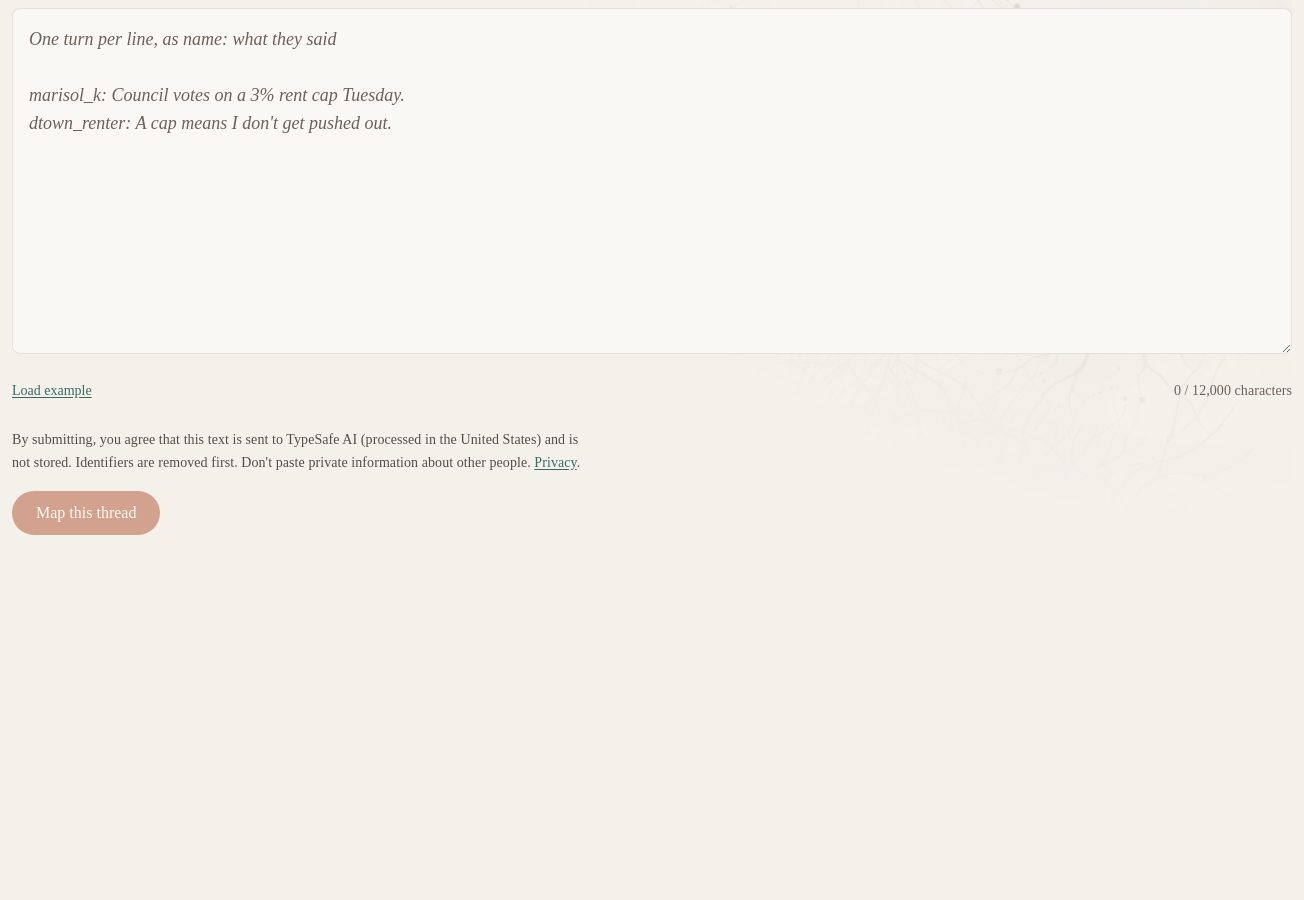
Test case: MapReplyClient › explains a SPEND_LIMIT_REACHED response in plain words
Click the button "Load example": (52, 391) [12,369,92,413]
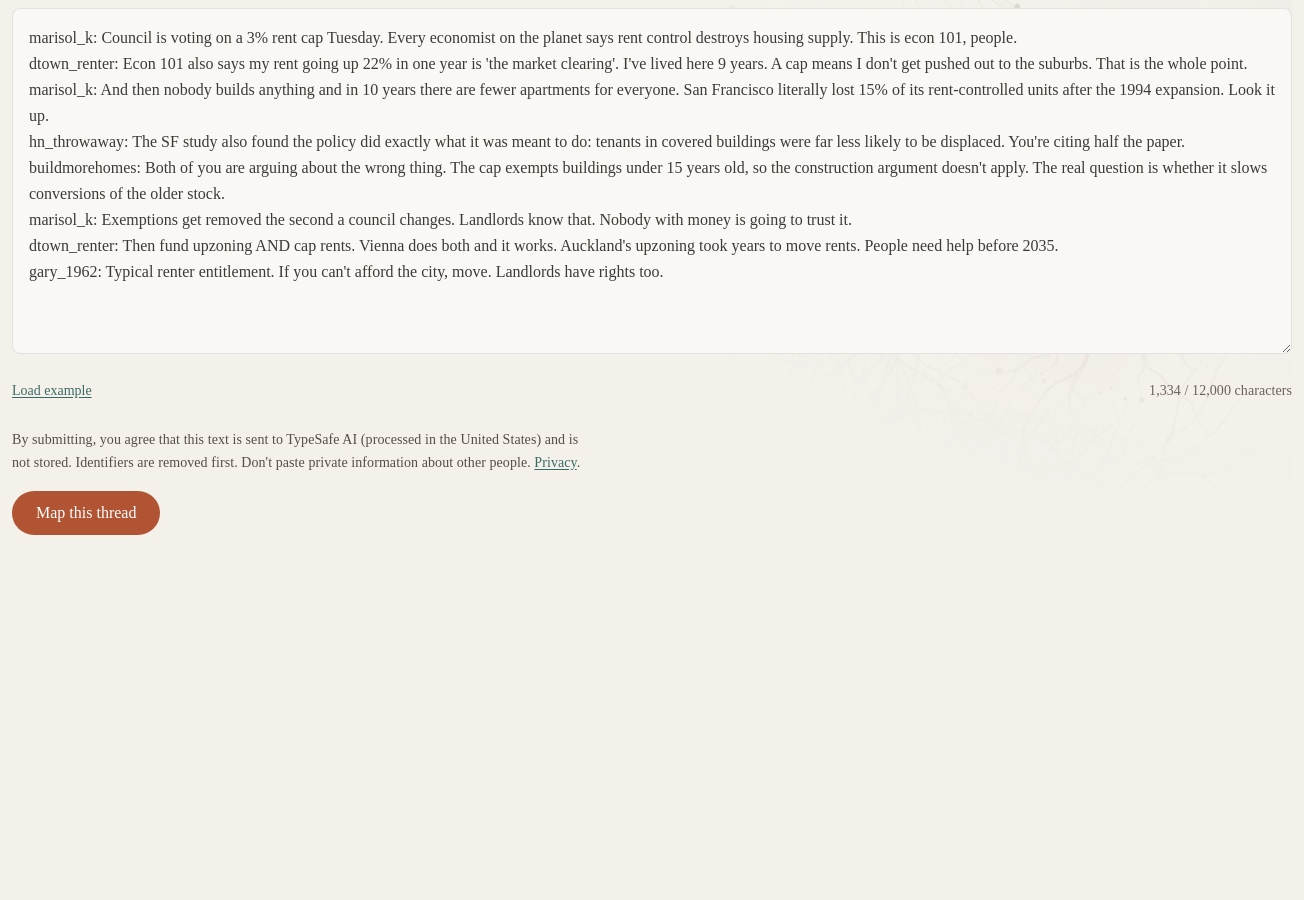
Click the button "Map this thread": (86, 512) [12,490,160,534]
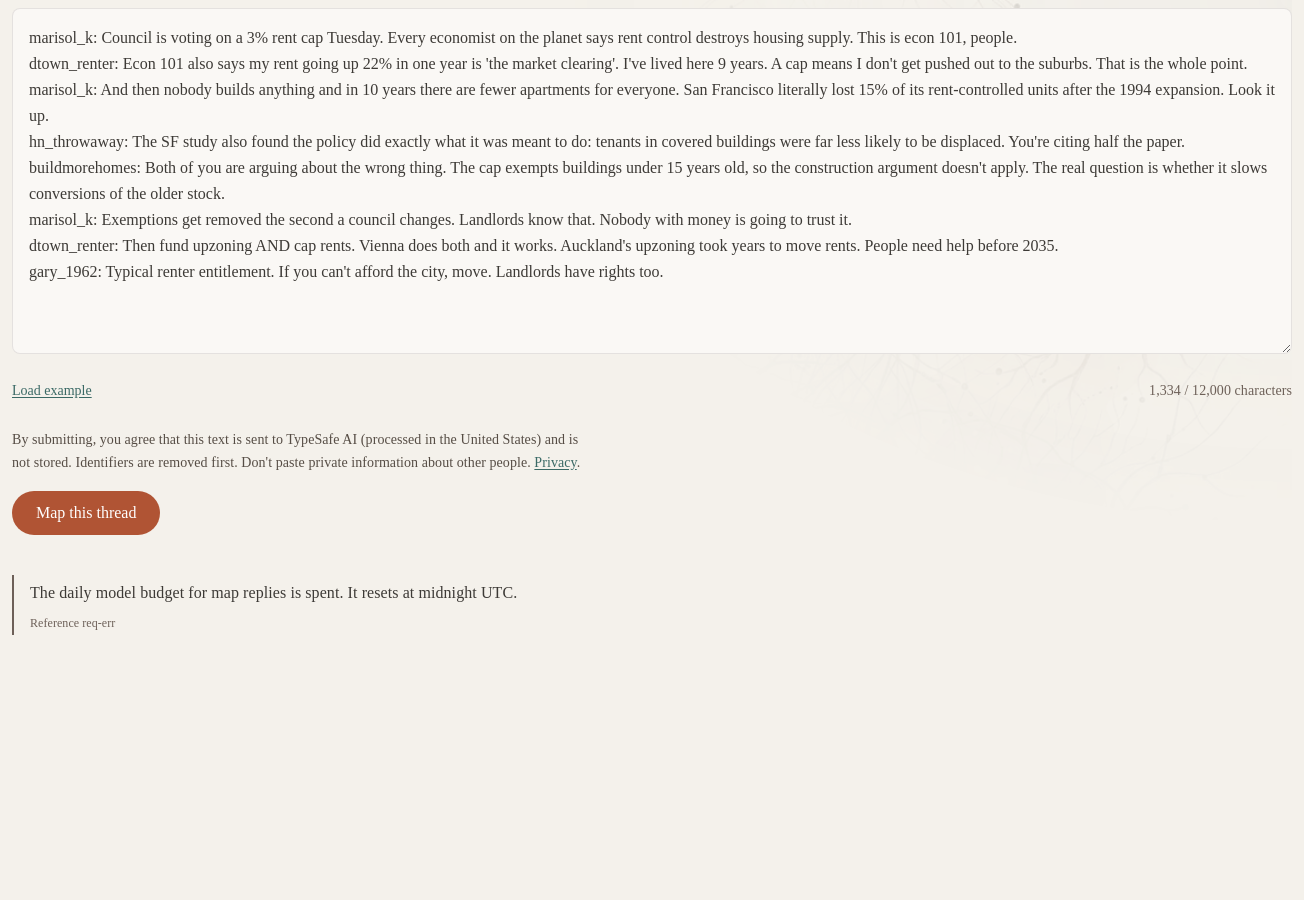
Result: the message shows "daily model budget" at [30,584,517,600]
Result: the text "Reference req-err" is shown at [30,616,115,630]
